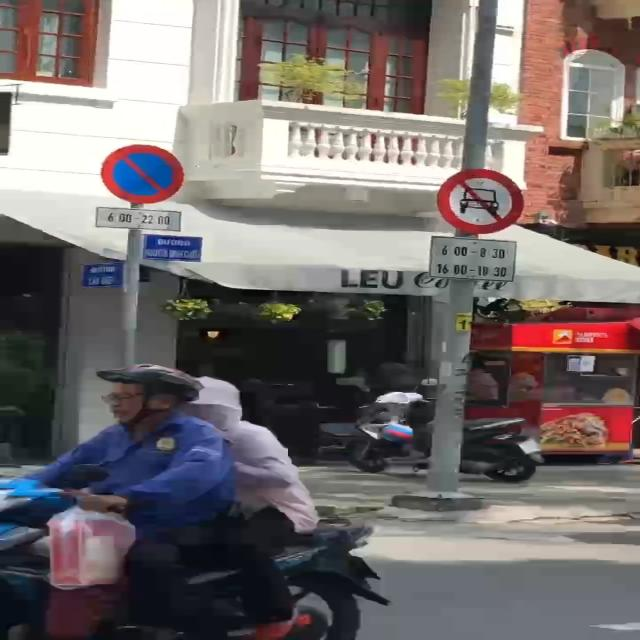Bien bao cam do xe: (97, 139, 189, 208)
Bien bao cam xe oto: (432, 165, 528, 237)
